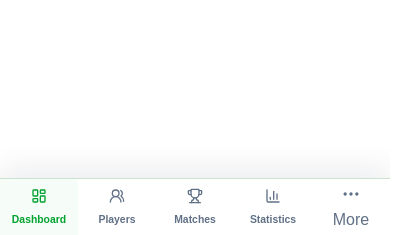
Scenario: DashboardNavigation mobile shell › opens an accessible More sheet for the secondary destinations
The width and height of the screenshot is (402, 235).
Click the button "More": (351, 207) [312,179,390,234]
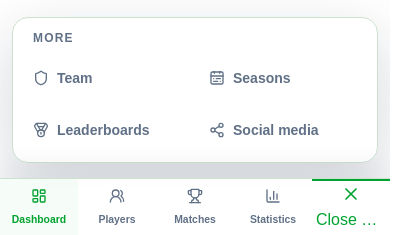
Expected: the button named "More" is expanded
Expected: the element with id "mobile-more-menu" is shown, [12,17,378,163]
Expected: the number of links "Team" is 2
Click the button "Close menu": (351, 207) [312,179,390,234]
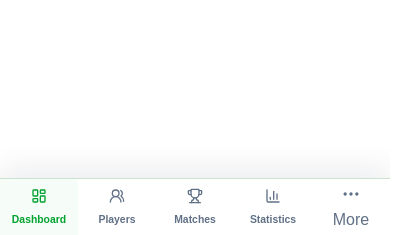
Expected: the button named "Close menu" is collapsed, [312,179,390,234]
